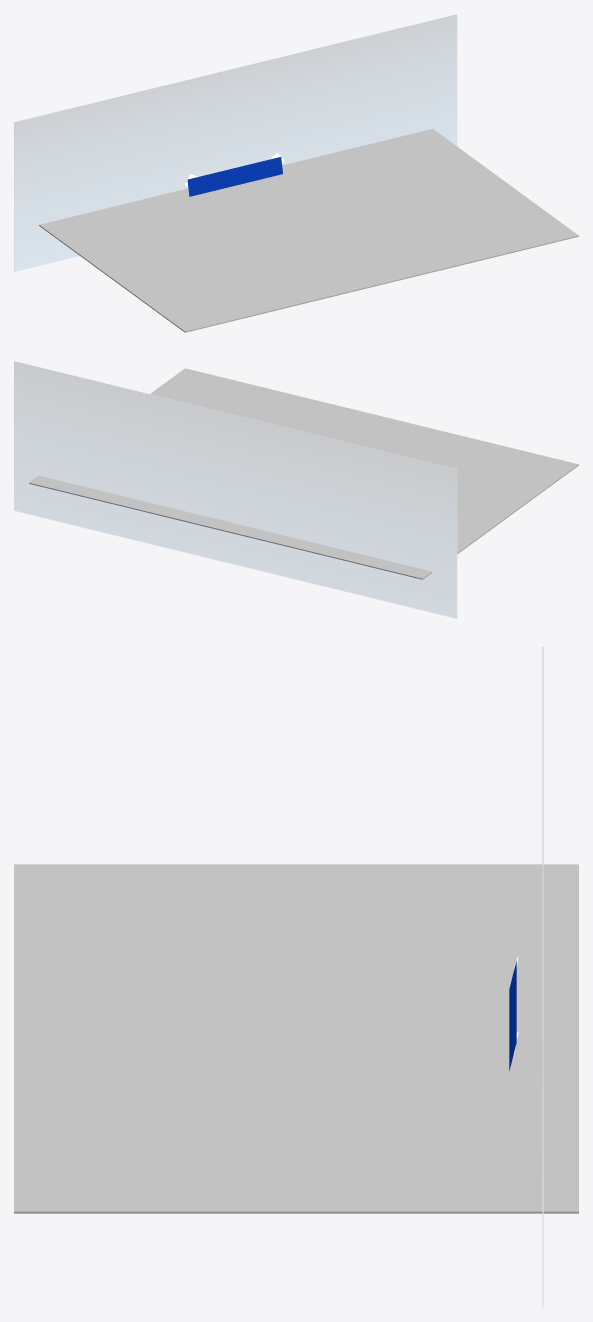
3 renders of one model, top to bottom at view 1: azimuth 30°, elevation 25°; view 2: azimuth 150°, elevation 25°; view 3: azimuth 270°, elevation 25°, orthographic. The views are drawn at different scales.
Visible parts, largest first — view 1: Ground contact / transparent shadow receiver.048, Sky gradient / editable material.048, Flag cloth / full-bleed source fields.020; view 2: Sky gradient / editable material.048, Ground contact / transparent shadow receiver.048; view 3: Ground contact / transparent shadow receiver.048, Sky gradient / editable material.048.
Boxes of the visible parts, left/top/right/bottom form: Ground contact / transparent shadow receiver.048: left=39, top=128, right=578, bottom=332; Sky gradient / editable material.048: left=14, top=14, right=457, bottom=271; Flag cloth / full-bleed source fields.020: left=185, top=153, right=284, bottom=196; Sky gradient / editable material.048: left=14, top=361, right=457, bottom=618; Ground contact / transparent shadow receiver.048: left=29, top=368, right=578, bottom=579; Ground contact / transparent shadow receiver.048: left=14, top=864, right=578, bottom=1213; Sky gradient / editable material.048: left=542, top=647, right=543, bottom=1307.
Size of the model in its own units: 180 by 58.47 by 110.
